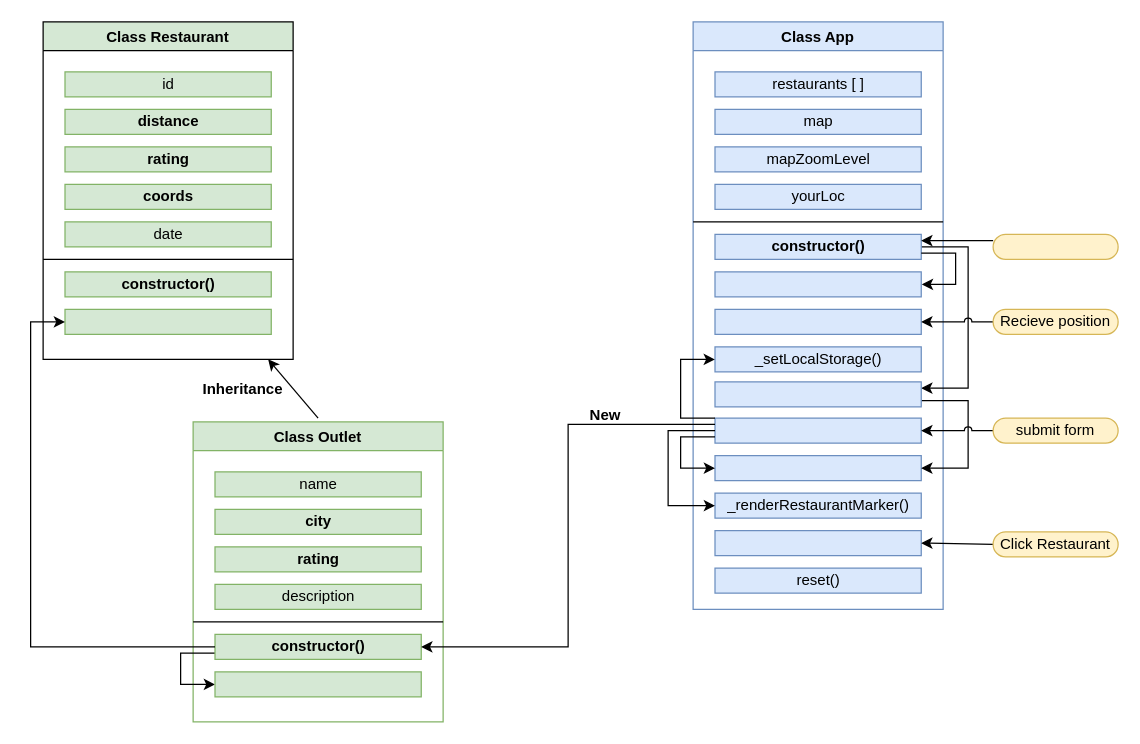
Image size: 1140x744. Some labels were removed from this diagram. The shapes that lost their labels are listed below. From the top down, each one's centre as x and y in pixels, then its label:
At point (1055, 246): "Load Page".
At point (817, 284): "_getPosition()".
At point (167, 321): "_setDescription()".
At point (817, 321): "_loadMap(position)".
At point (817, 394): "_getLocalStorage()".
At point (817, 430): "_newRestaurant()".
At point (817, 467): "_renderRestaurant(workout)".
At point (817, 542): "_moveToPopup(e)".
At point (317, 684): "far()".
